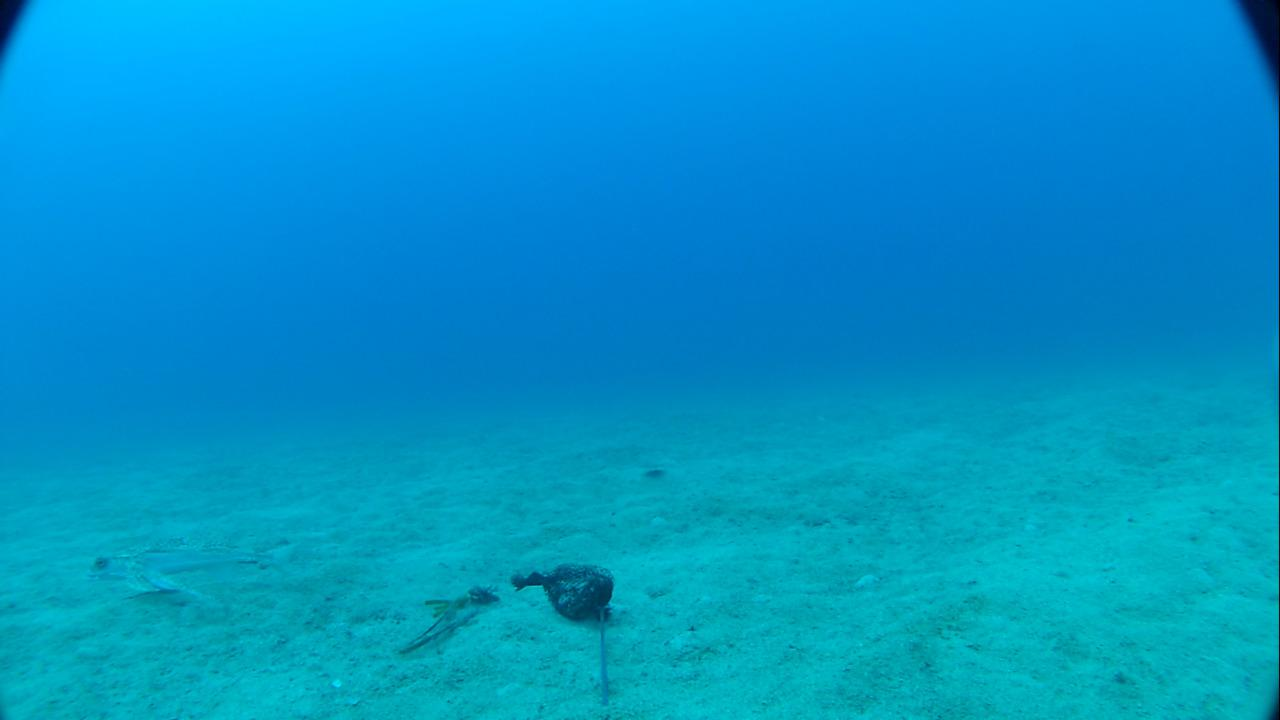bothus: (642, 461, 676, 475)
dactylopterus: (81, 532, 303, 615)
